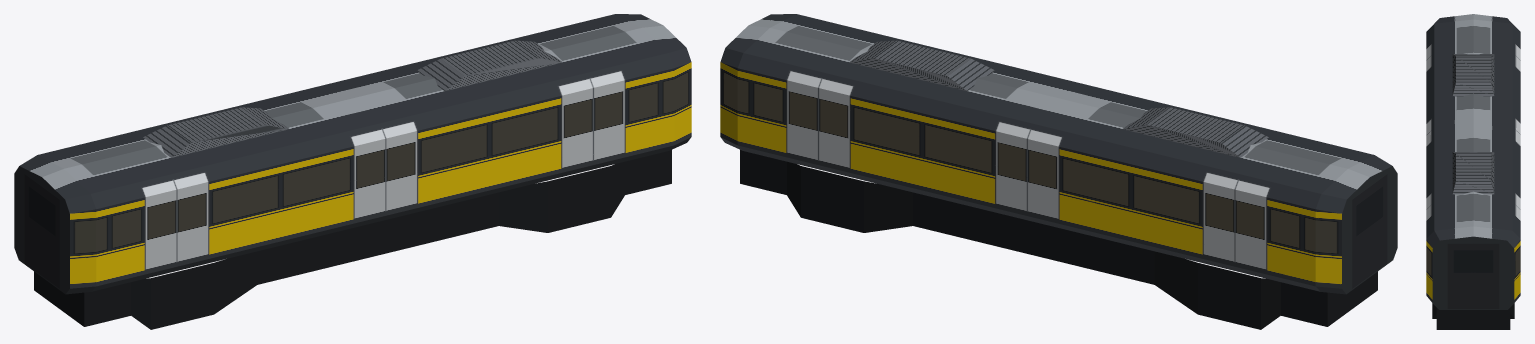
Rendered from bvg_kleinprofil__neutral.glb.
The picture shows the model from 3 angles, left to right: view 1: azimuth 30°, elevation 25°; view 2: azimuth 150°, elevation 25°; view 3: azimuth 270°, elevation 25°; orthographic projection. The views are drawn at different scales.
Parts seen in each view (by area): view 1: bvg_kleinprofil__neutral; view 2: bvg_kleinprofil__neutral; view 3: bvg_kleinprofil__neutral.
Part boxes in pixels (x1,y1,x2,y2): bvg_kleinprofil__neutral: [14, 14, 691, 329]; bvg_kleinprofil__neutral: [720, 14, 1397, 329]; bvg_kleinprofil__neutral: [1426, 14, 1520, 329].
Bounding box in the file's own units: 12.8 × 3.18 × 2.3.
1 material, 1 textured.
